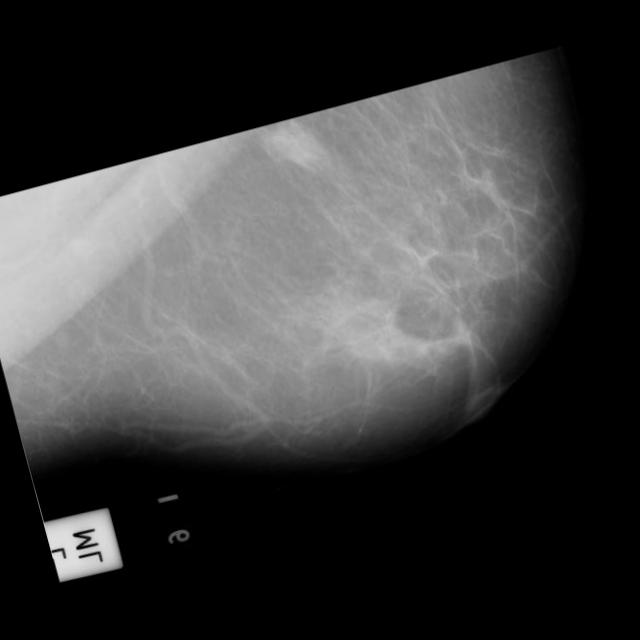MISC: (250, 102, 336, 188)
